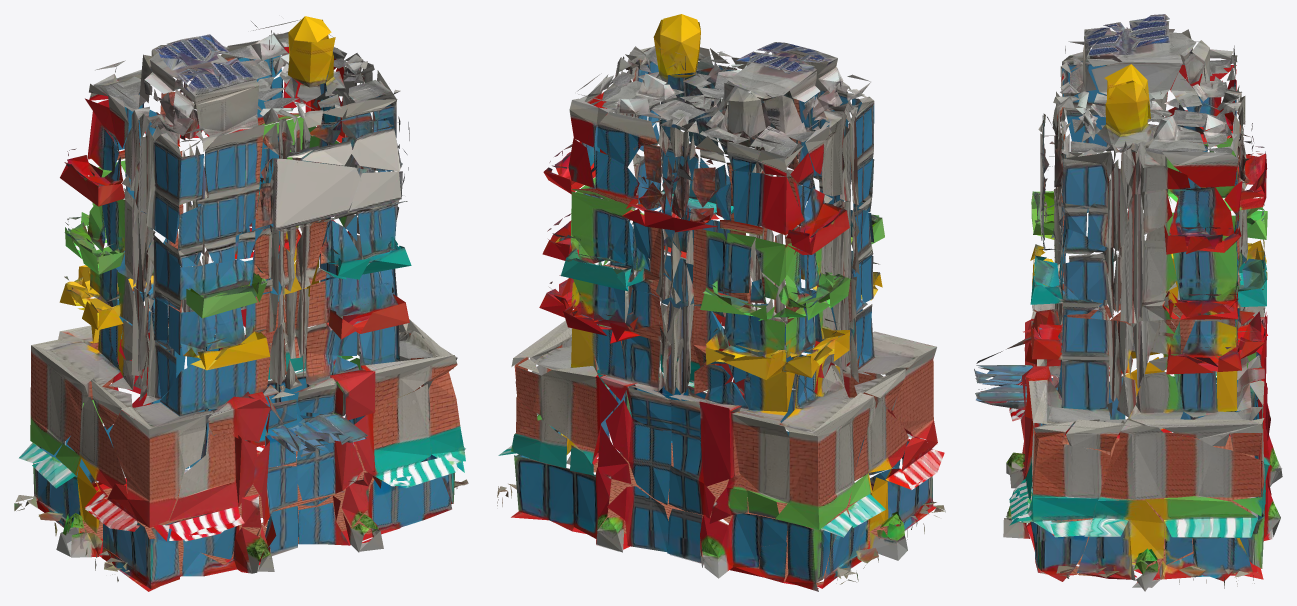
The model's file is JHB_HeroBuilding07_LOD2.fbx.
3 renders of one model, left to right at view 1: azimuth 30°, elevation 25°; view 2: azimuth 150°, elevation 25°; view 3: azimuth 270°, elevation 25°, orthographic. The views are drawn at different scales.
Parts seen in each view (by area): view 1: JHB_HeroBuilding07_LOD2; view 2: JHB_HeroBuilding07_LOD2; view 3: JHB_HeroBuilding07_LOD2.
Boxes of the visible parts, left/top/right/bottom form: JHB_HeroBuilding07_LOD2: left=14, top=16, right=468, bottom=591; JHB_HeroBuilding07_LOD2: left=497, top=14, right=945, bottom=591; JHB_HeroBuilding07_LOD2: left=974, top=14, right=1282, bottom=591.
Bounding box in the file's own units: 13.58 × 17.42 × 10.29.
